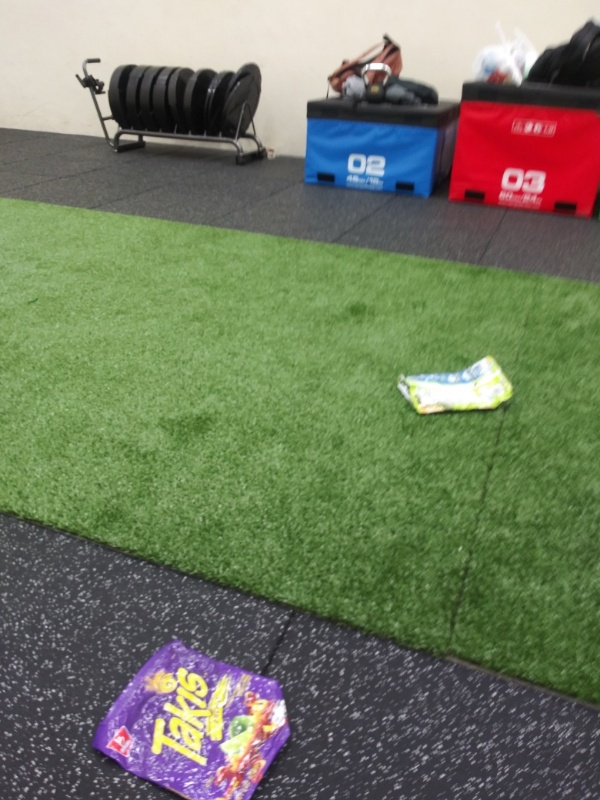bag: (83, 637, 293, 800), (393, 354, 519, 419)
